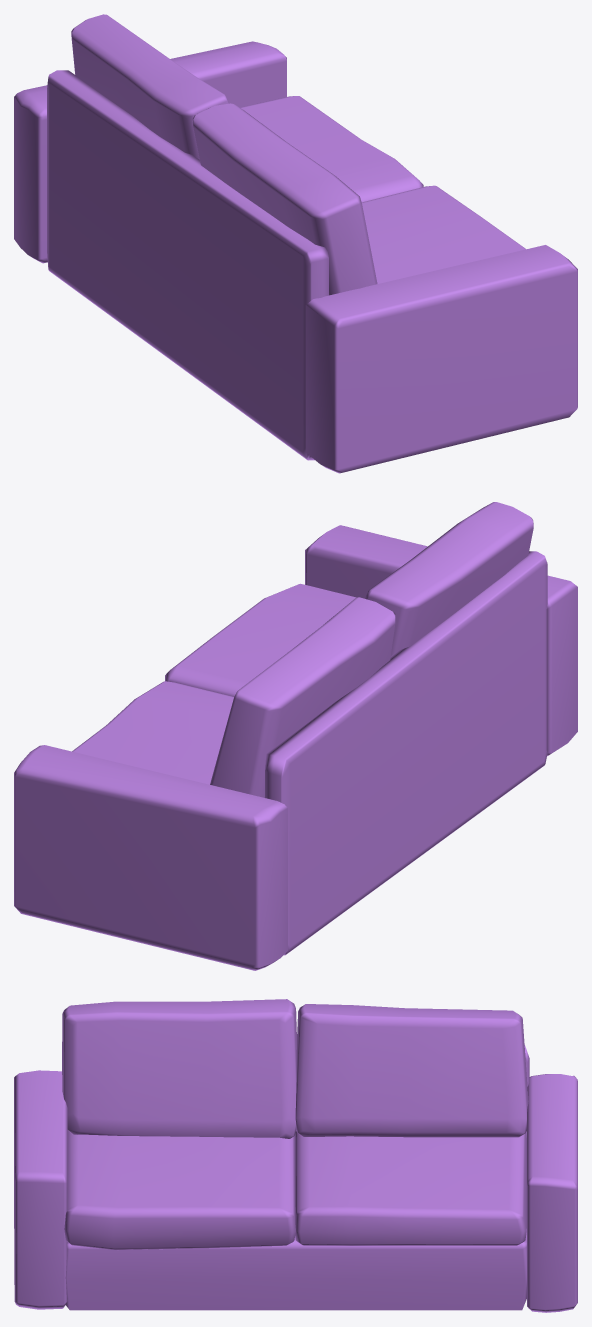
Rendered from Friday_House_Couch.fbx.
The picture shows the model from 3 angles, top to bottom: view 1: azimuth 30°, elevation 25°; view 2: azimuth 150°, elevation 25°; view 3: azimuth 270°, elevation 25°; orthographic projection. The views are drawn at different scales.
Visible parts, largest first — view 1: Sofa, Cushion_4, Cushion_5, Cushion, Cushion_2; view 2: Sofa, Cushion_5, Cushion_4, Cushion_2, Cushion; view 3: Sofa, Cushion_4, Cushion_5, Cushion, Cushion_2.
Part boxes in pixels (x1=…): Sofa: x1=14, y1=41, x2=577, y2=473; Cushion_4: x1=192, y1=103, x2=377, y2=295; Cushion_5: x1=71, y1=14, x2=228, y2=159; Cushion: x1=361, y1=185, x2=525, y2=283; Cushion_2: x1=240, y1=96, x2=423, y2=202; Sofa: x1=14, y1=525, x2=577, y2=970; Cushion_5: x1=210, y1=597, x2=395, y2=797; Cushion_4: x1=365, y1=502, x2=533, y2=655; Cushion_2: x1=72, y1=681, x2=233, y2=784; Cushion: x1=165, y1=583, x2=356, y2=696; Sofa: x1=14, y1=1042, x2=577, y2=1312; Cushion_4: x1=62, y1=999, x2=296, y2=1138; Cushion_5: x1=295, y1=1004, x2=528, y2=1137; Cushion: x1=64, y1=1131, x2=295, y2=1249; Cushion_2: x1=295, y1=1131, x2=526, y2=1245.
Size of the model in its own units: 38.53 by 35.46 by 80.86.
